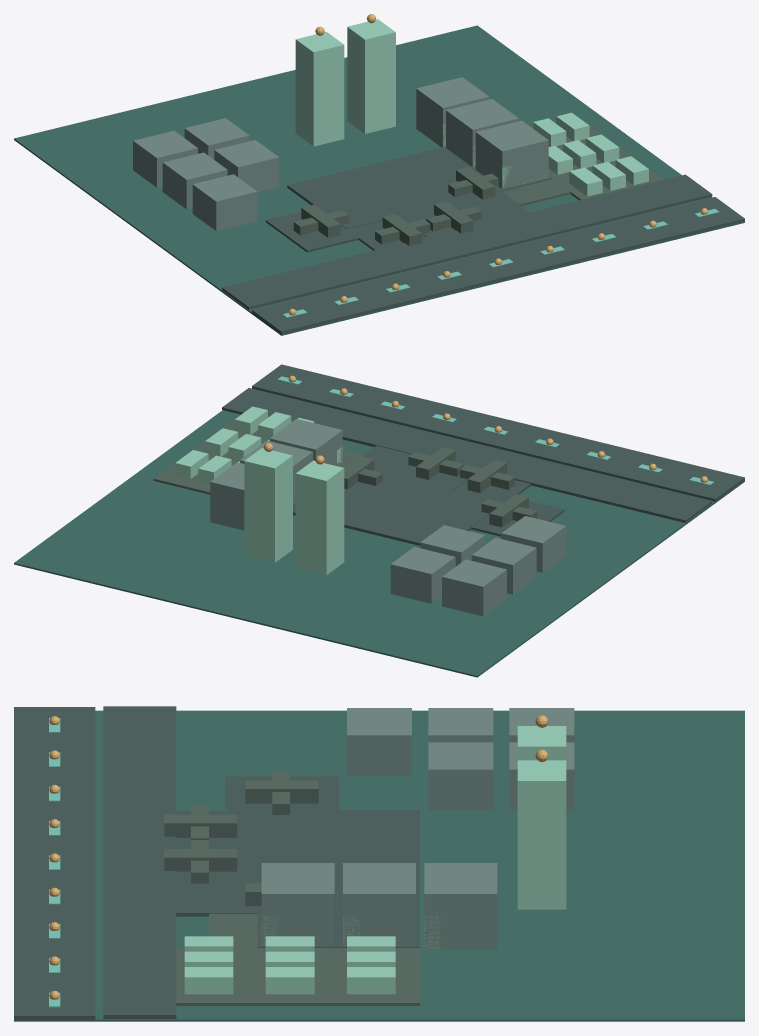
Rendered from stage_23.glb.
The picture shows the model from 3 angles, top to bottom: view 1: azimuth 30°, elevation 25°; view 2: azimuth 150°, elevation 25°; view 3: azimuth 270°, elevation 25°; orthographic projection. The views are drawn at different scales.
Visible parts, largest first — view 1: geometry_0; view 2: geometry_0; view 3: geometry_0.
Boxes of the visible parts, <box> form: geometry_0: <box>14,14,744,335</box>; geometry_0: <box>14,364,744,677</box>; geometry_0: <box>14,706,744,1021</box>.
Bounding box in the file's own units: 9 × 2.06 × 9.
